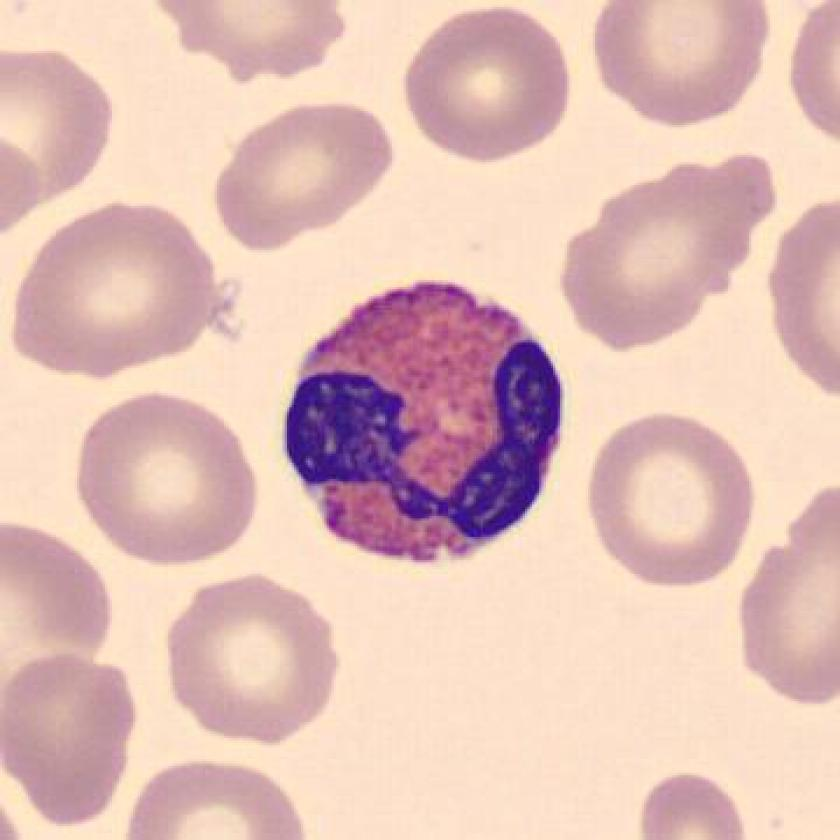eosinophil: (274, 267, 580, 577)
